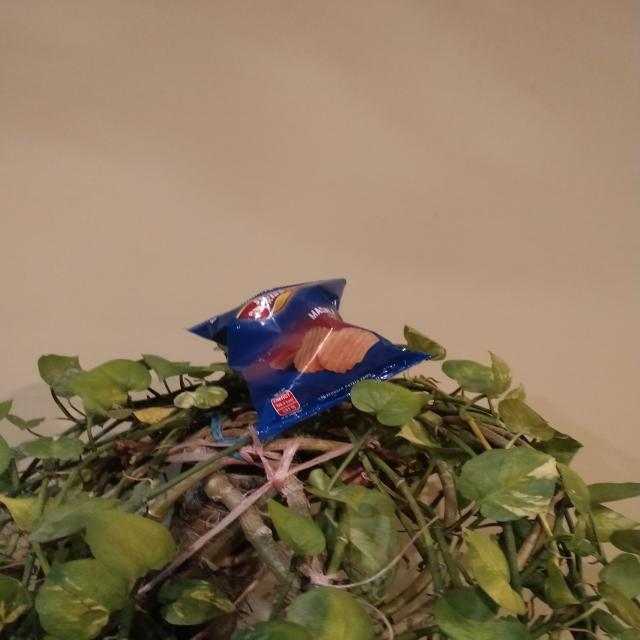Plastic: (190, 272, 431, 435)
